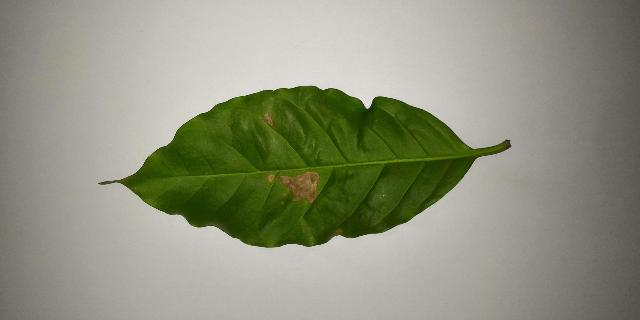cercospora: (267, 171, 320, 204), (261, 112, 275, 127), (335, 229, 343, 234)
